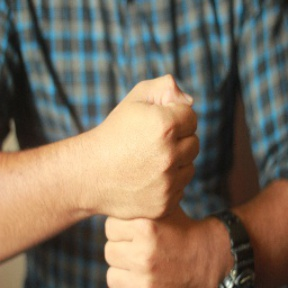G: (89, 73, 206, 288)
